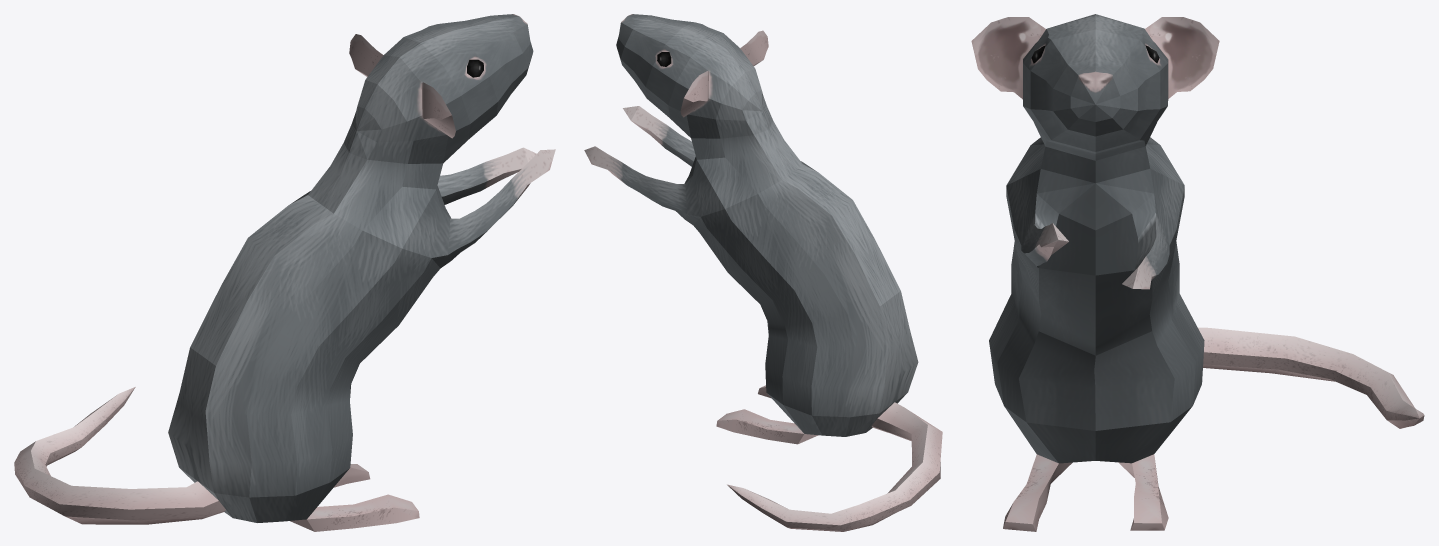
File: beggingnellie.fbx
3 renders of one model, left to right at view 1: azimuth 30°, elevation 25°; view 2: azimuth 150°, elevation 25°; view 3: azimuth 270°, elevation 25°, orthographic. The views are drawn at different scales.
Parts seen in each view (by area): view 1: pSphere5; view 2: pSphere5; view 3: pSphere5.
Part boxes in pixels (<box>): pSphere5: <box>14,14,555,531</box>; pSphere5: <box>584,14,942,531</box>; pSphere5: <box>971,14,1424,531</box>.
Bounding box in the file's own units: 5.81 × 5.49 × 4.08.
